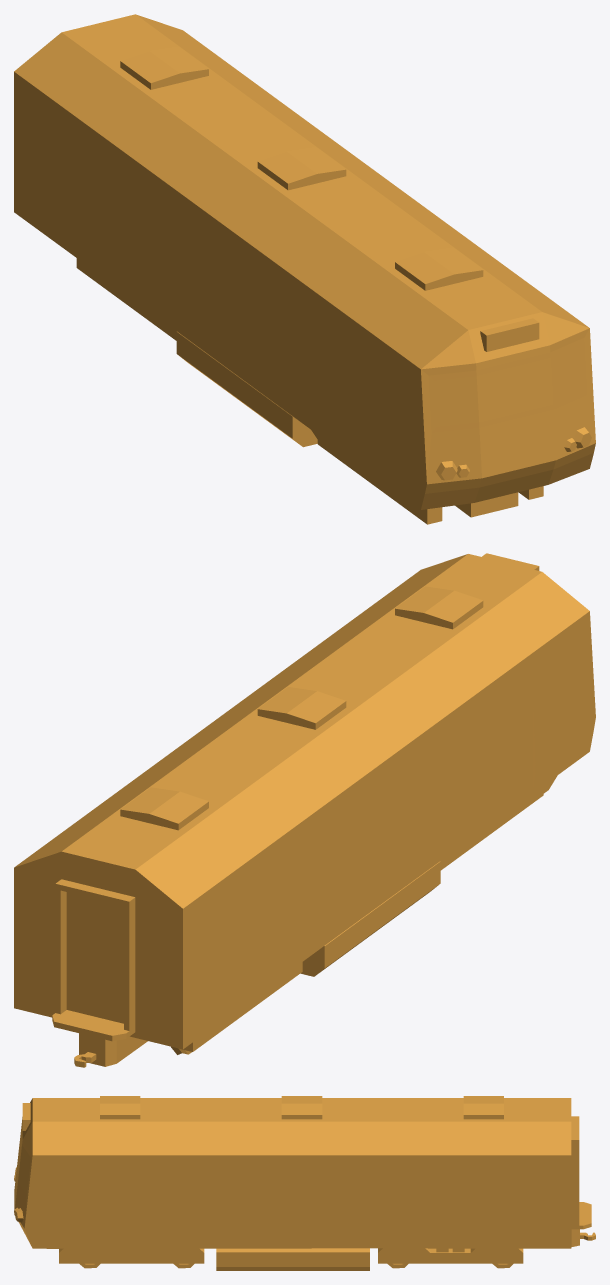
Rendered from train-passenger.glb.
3 views of the same model, one above another, from view 1: azimuth 30°, elevation 25°; view 2: azimuth 150°, elevation 25°; view 3: azimuth 270°, elevation 25° (orthographic). The views are drawn at different scales.
Parts seen in each view (by area): view 1: train-passenger-base, train-passenger-base-wheel-frame_F, train-passenger-base-wheel-frame_B; view 2: train-passenger-base, train-passenger-base-wheel-frame_B; view 3: train-passenger-base, train-passenger-base-wheel-frame_B, train-passenger-base-wheel-frame_F.
Boxes of the visible parts, x1,y1,x2,y2 form: train-passenger-base: (14,14,595,517); train-passenger-base-wheel-frame_F: (317,440,543,524); train-passenger-base-wheel-frame_B: (76,258,176,340); train-passenger-base: (14,553,595,1067); train-passenger-base-wheel-frame_B: (178,962,302,1051); train-passenger-base: (14,1096,595,1270); train-passenger-base-wheel-frame_B: (378,1248,523,1263); train-passenger-base-wheel-frame_F: (59,1248,204,1263).
Bounding box in the file's own units: 3.2 × 4.17 × 14.41.
